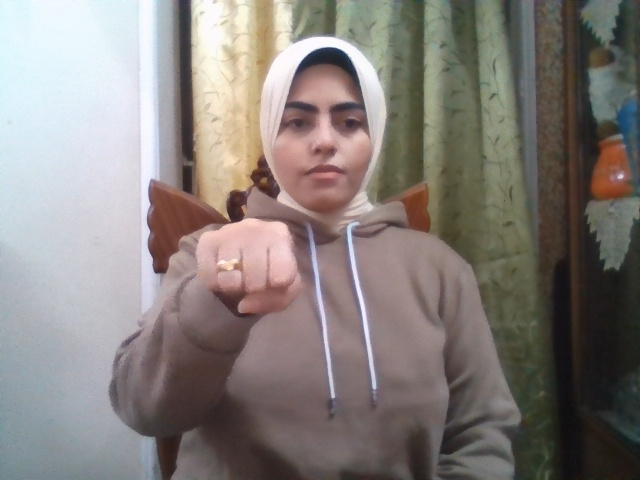yes: (197, 218, 302, 313)
